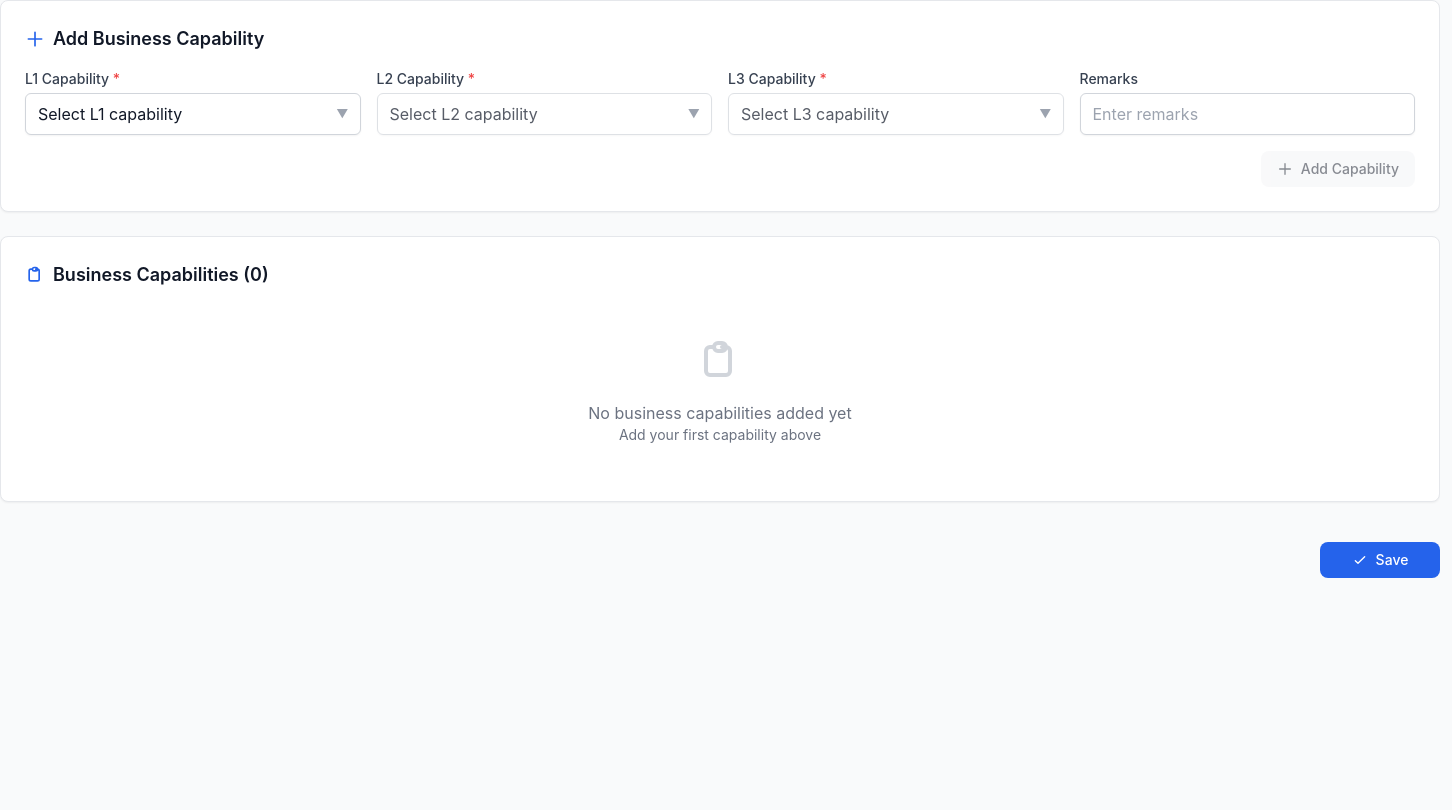
Test: BusinessCapabilitiesStep › Add Capability Functionality › adds new capability when add button clicked
Note: Fill all fields
Select "Customer Management" in the dropdown below "L1 Capability" at (193, 114), box [25, 93, 360, 135]
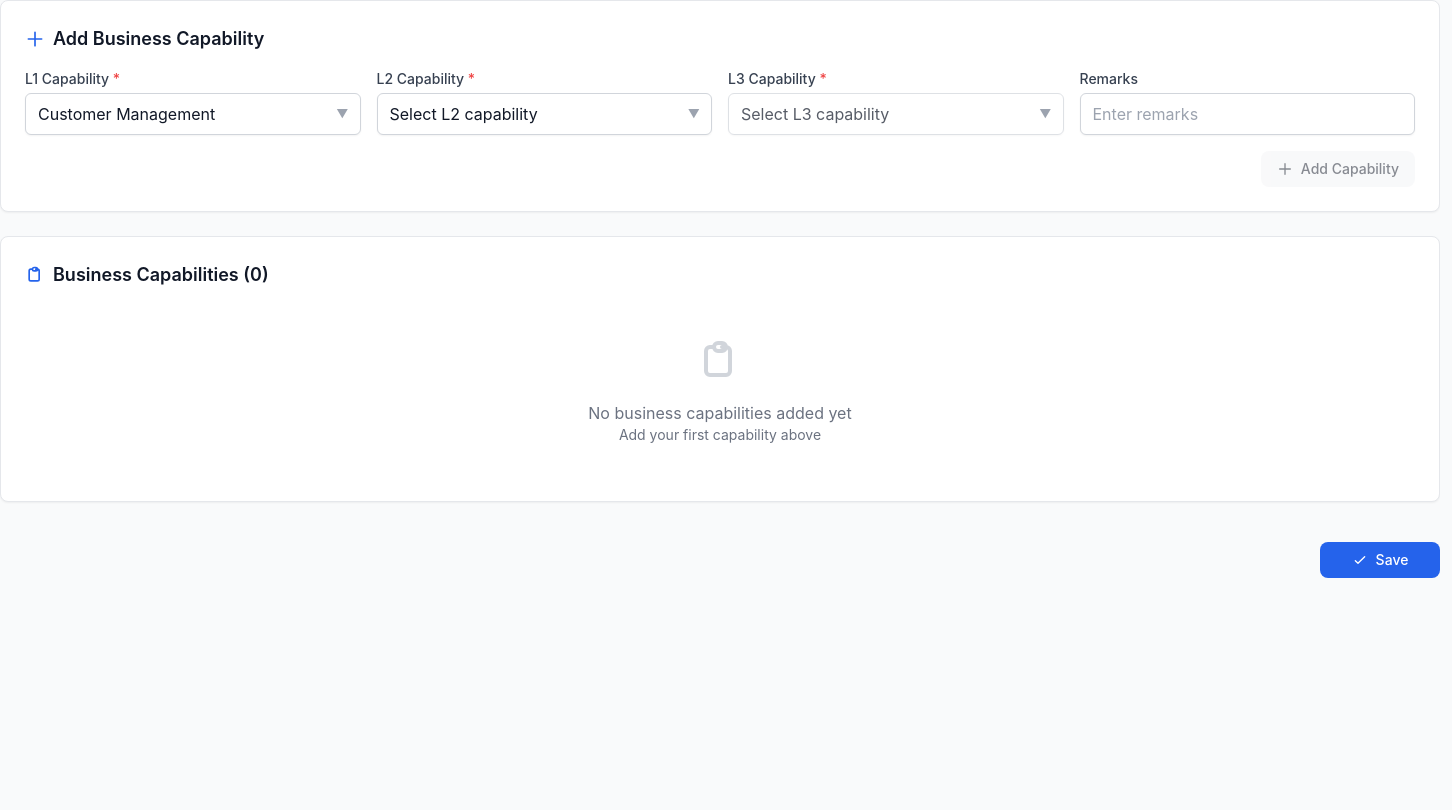
Select "Customer Onboarding" in the dropdown below "L2 Capability" at (544, 114), box [376, 93, 712, 135]
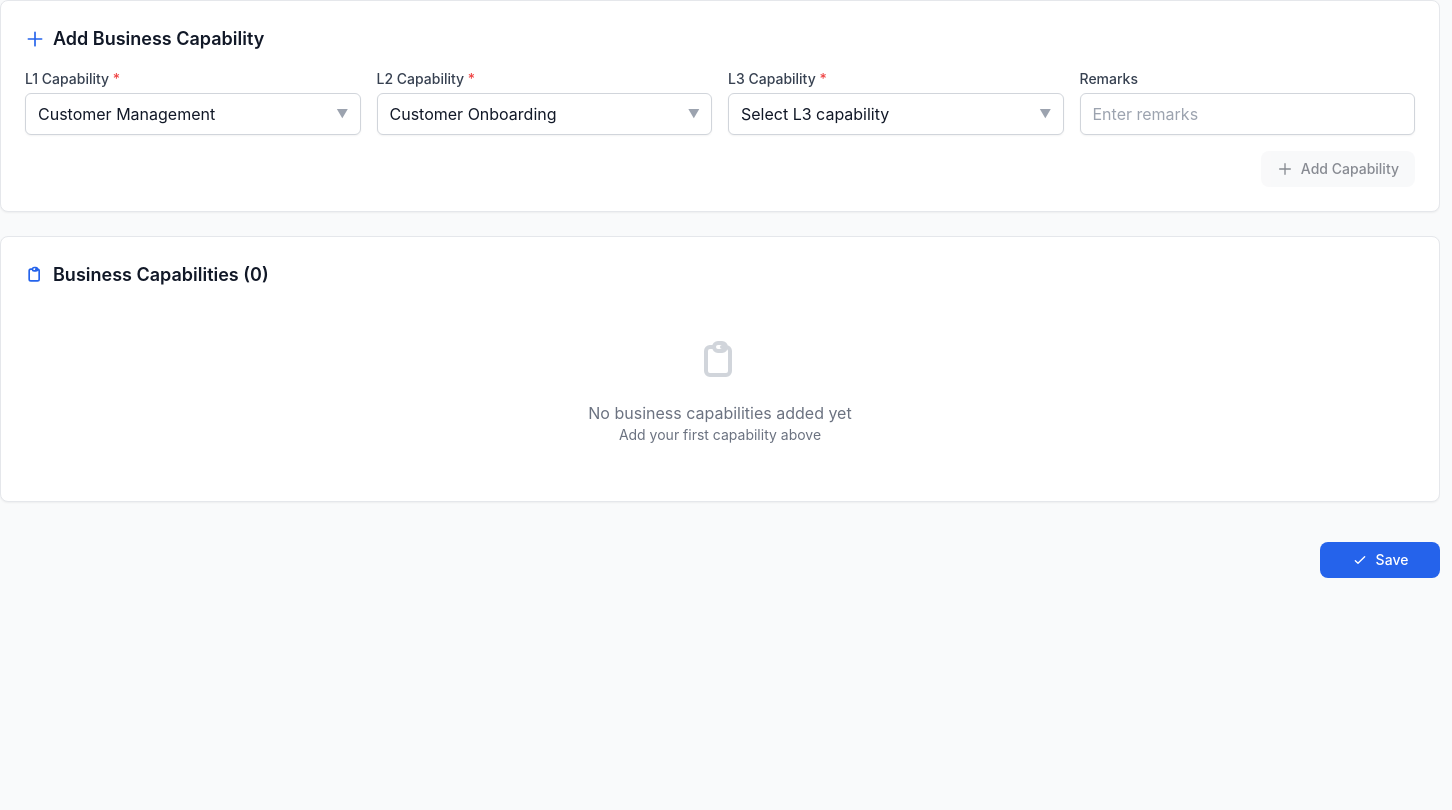
Select "Digital Registration" in the dropdown below "L3 Capability" at (896, 114), box [728, 93, 1064, 135]
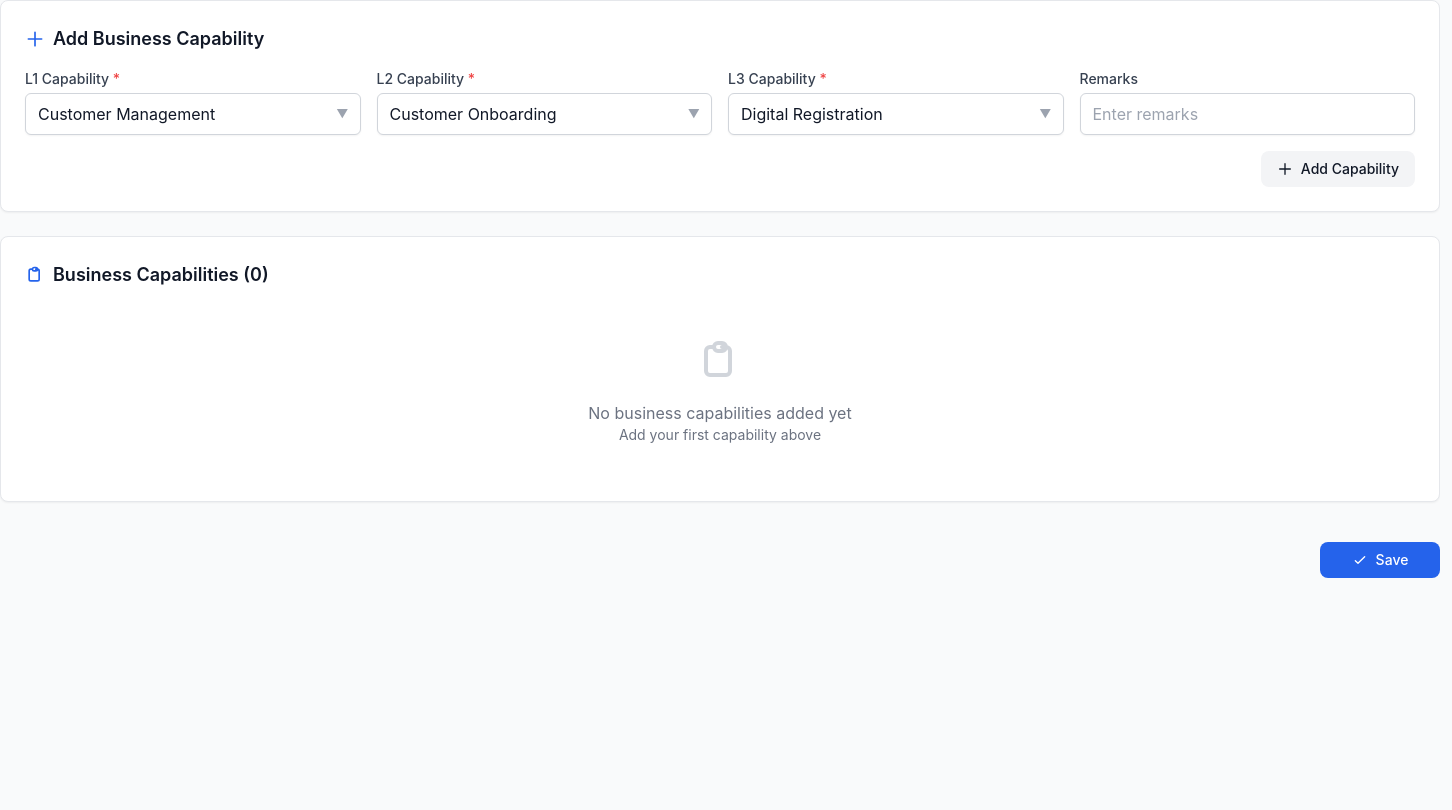
Type "New capability" into the field with placeholder "Enter remarks" at (1247, 114), box [1080, 93, 1415, 135]
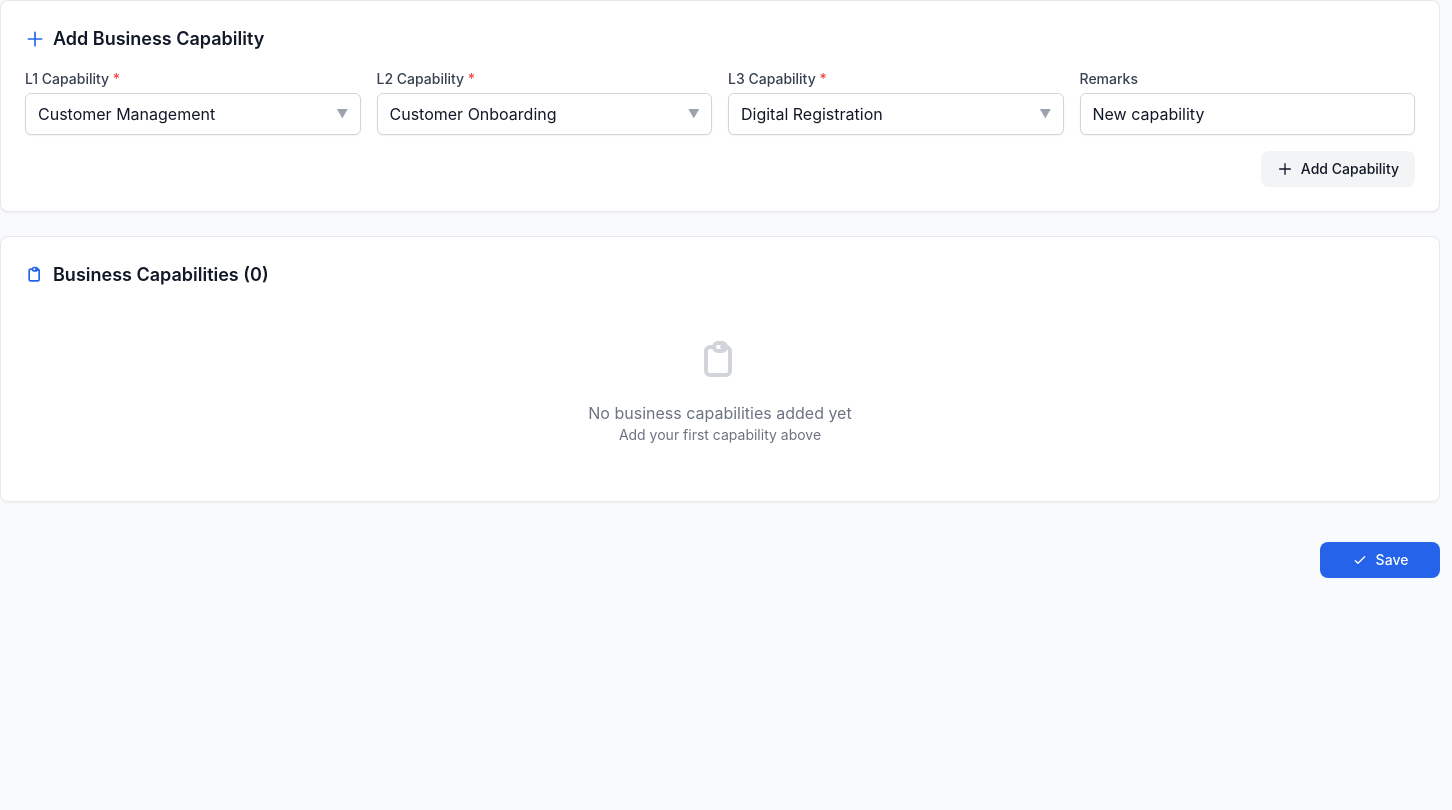
Click the button "Add Capability" at (1338, 169), box [1261, 151, 1415, 187]
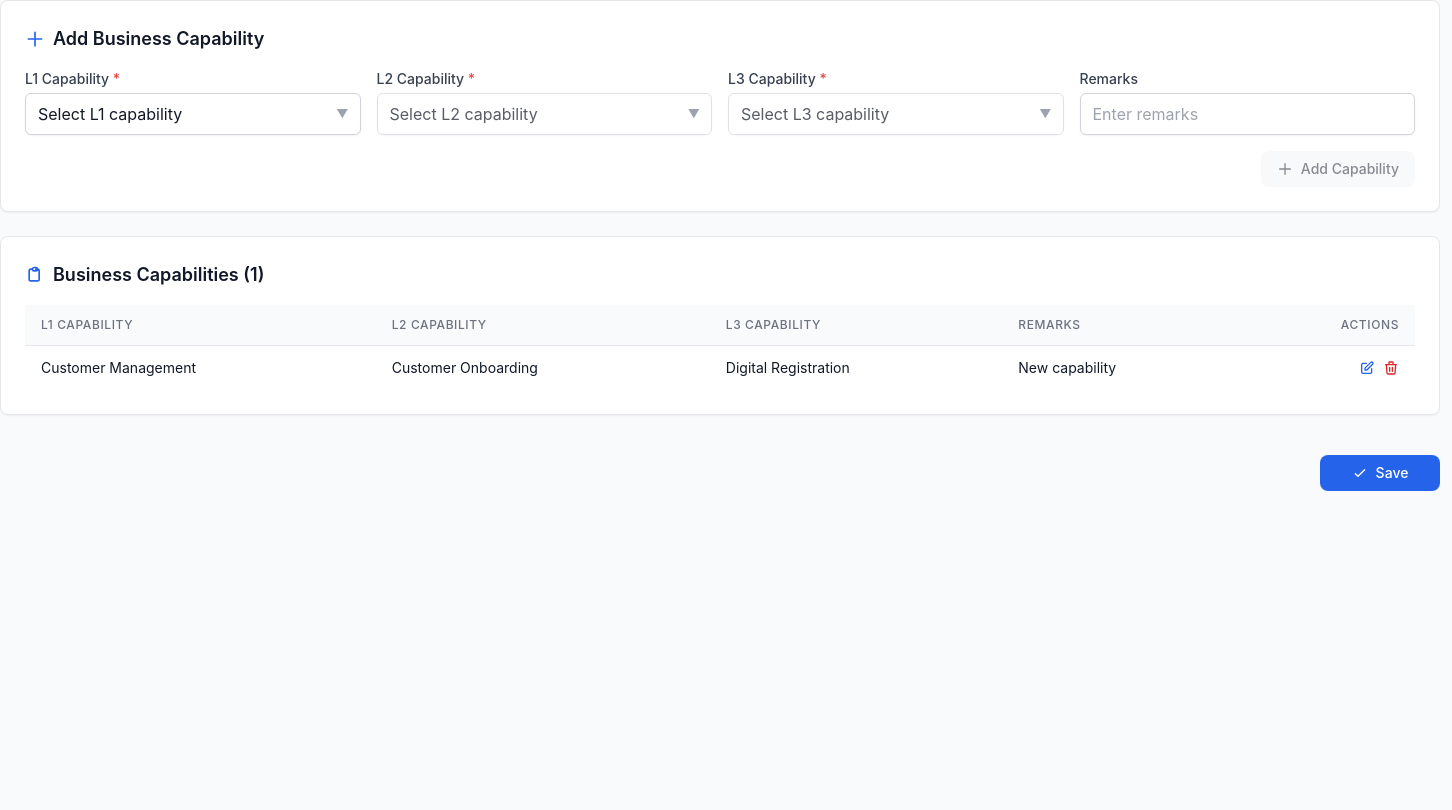
Check: the cell "Customer Management" is shown, box [25, 346, 376, 390]
Check: the cell "Customer Onboarding" is shown, box [376, 346, 710, 390]
Check: the cell "Digital Registration" is shown, box [710, 346, 1002, 390]
